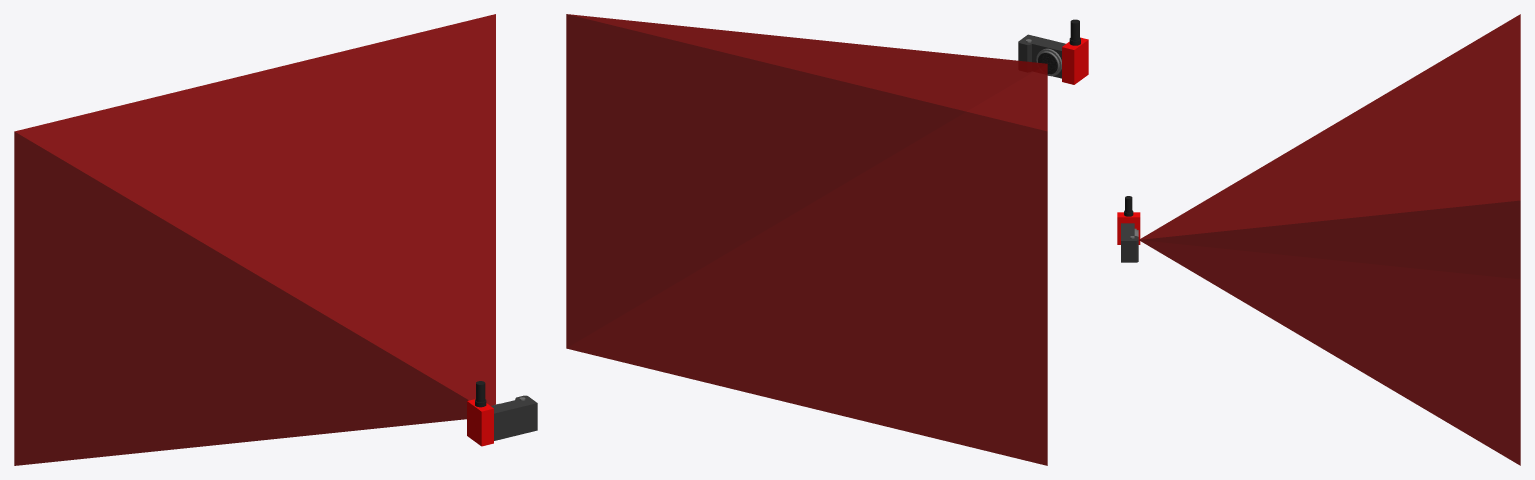
The model's file is Drobit_camara.dae.
The picture shows the model from 3 angles, left to right: view 1: azimuth 30°, elevation 25°; view 2: azimuth 150°, elevation 25°; view 3: azimuth 270°, elevation 25°; orthographic projection. The views are drawn at different scales.
Parts seen in each view (by area): view 1: group_10, group_7, group_3; view 2: group_10, group_3, group_7; view 3: group_10, group_7, group_3.
Part boxes in pixels (x1,y1,x2,y2): group_10: [14, 14, 495, 465]; group_7: [491, 395, 537, 440]; group_3: [467, 399, 493, 446]; group_10: [566, 14, 1047, 465]; group_3: [1062, 37, 1088, 84]; group_7: [1018, 34, 1065, 78]; group_10: [1139, 14, 1520, 465]; group_7: [1121, 223, 1138, 262]; group_3: [1117, 212, 1140, 244].
Size of the model in its own units: 45.46 by 41.56 by 30.18.
